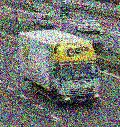car: (32, 12, 54, 29), (76, 20, 100, 35)
